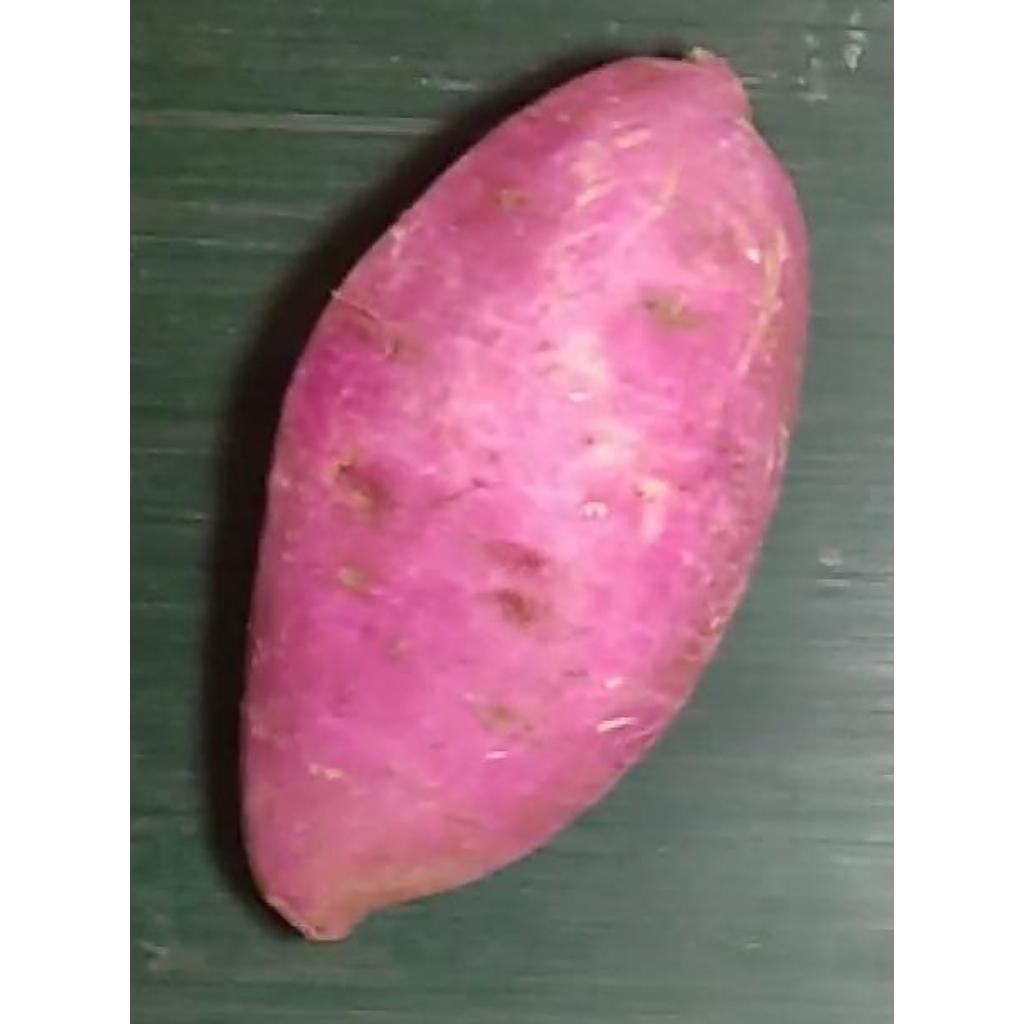Sweet Potato: (239, 49, 812, 947)
